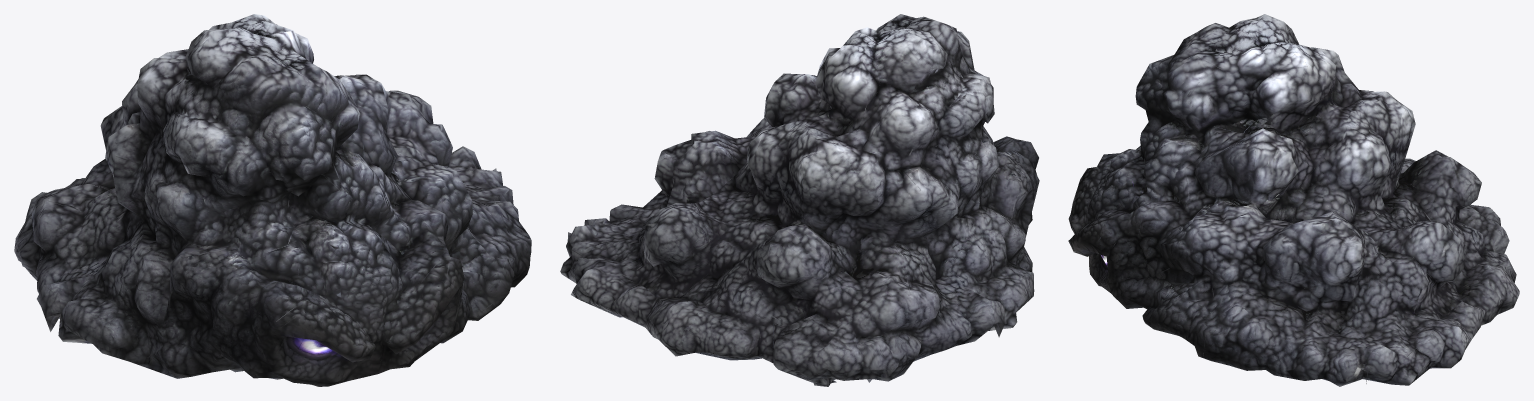
The model's file is Meshy_AI_Eyes_of_the_Tempest_0531095115_texture.fbx.
3 renders of one model, left to right at view 1: azimuth 30°, elevation 25°; view 2: azimuth 150°, elevation 25°; view 3: azimuth 270°, elevation 25°, orthographic. The views are drawn at different scales.
Parts seen in each view (by area): view 1: Mesh1.0; view 2: Mesh1.0; view 3: Mesh1.0.
Part boxes in pixels (bbox=[...]): Mesh1.0: bbox=[14, 14, 531, 386]; Mesh1.0: bbox=[560, 14, 1039, 386]; Mesh1.0: bbox=[1068, 14, 1519, 386].
Bounding box in the file's own units: 189 × 118 × 187.
Materials: 1 (1 with a texture image).
